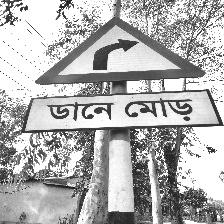Right-turn: (27, 13, 221, 133)
